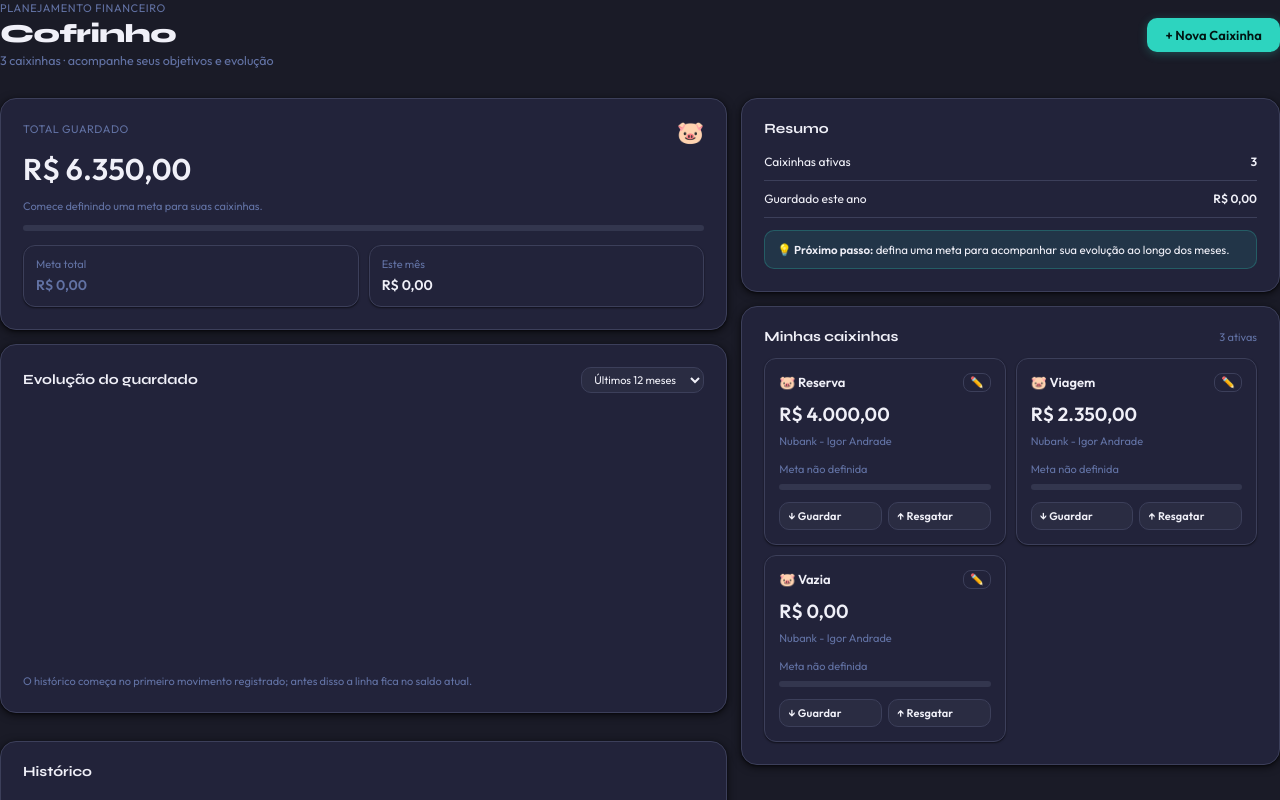
Test: delete savings box › opens from the edit form and shows the name and balance
Click the button titled "Renomear caixinha" next to "Reserva" at (977, 383), box [963,373,991,392]
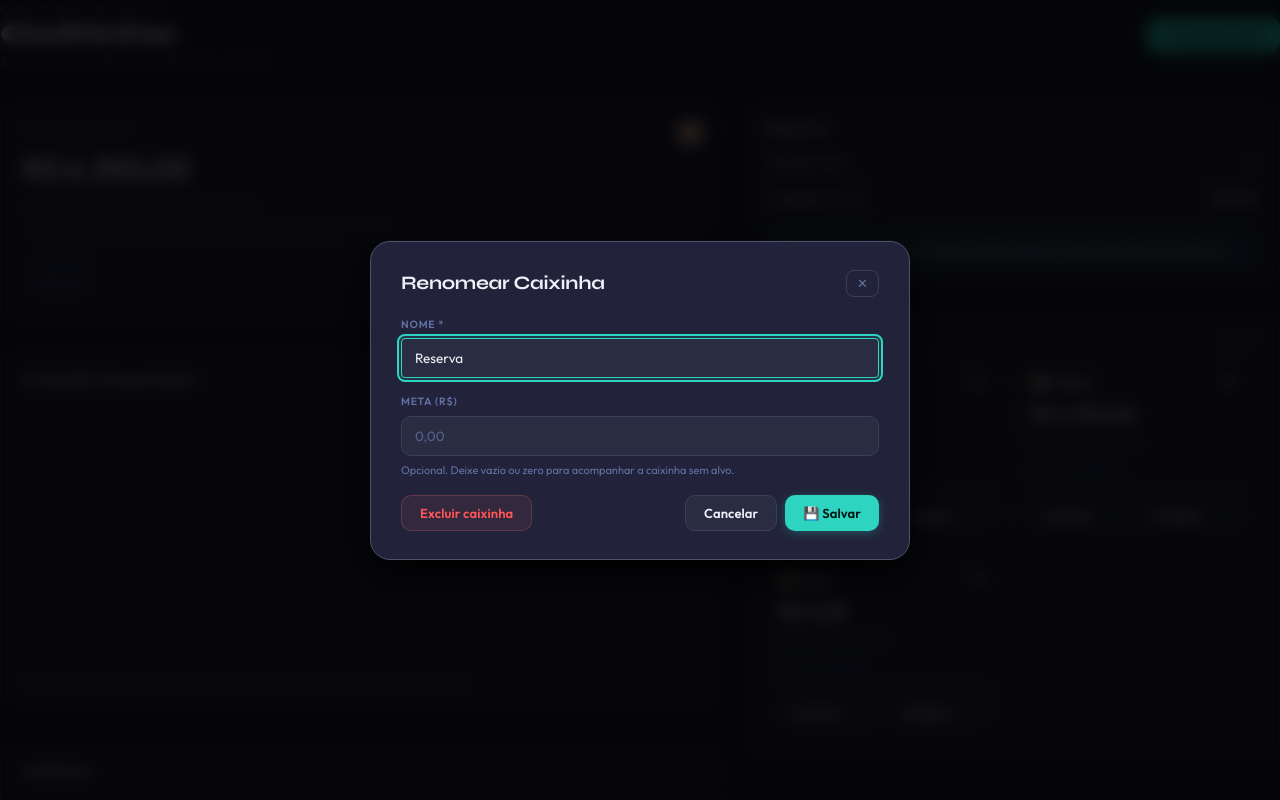
Click the button "Excluir caixinha" at (467, 512), box [401,494,532,530]
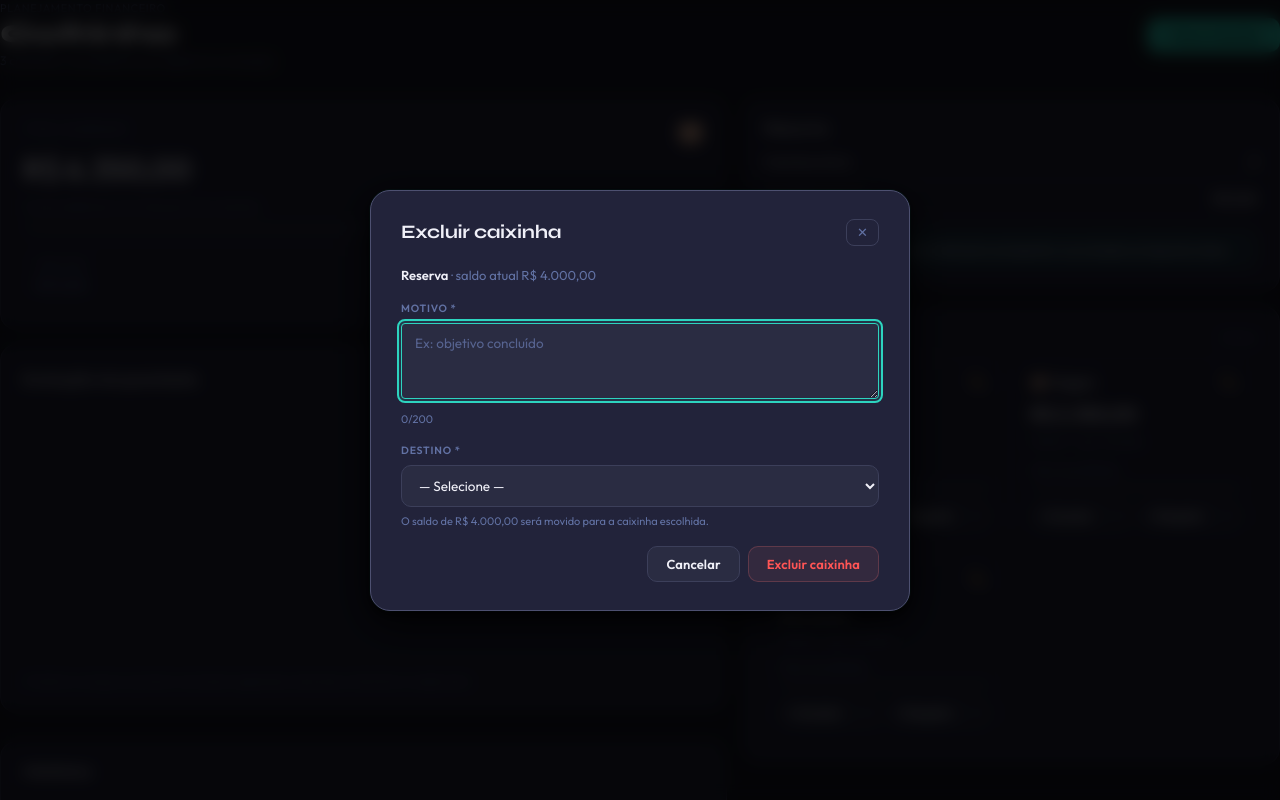
Check: the heading "Excluir caixinha" is shown, box [401,221,561,243]
Check: the element with class "modal" shows "Reserva", box [401,266,448,282]
